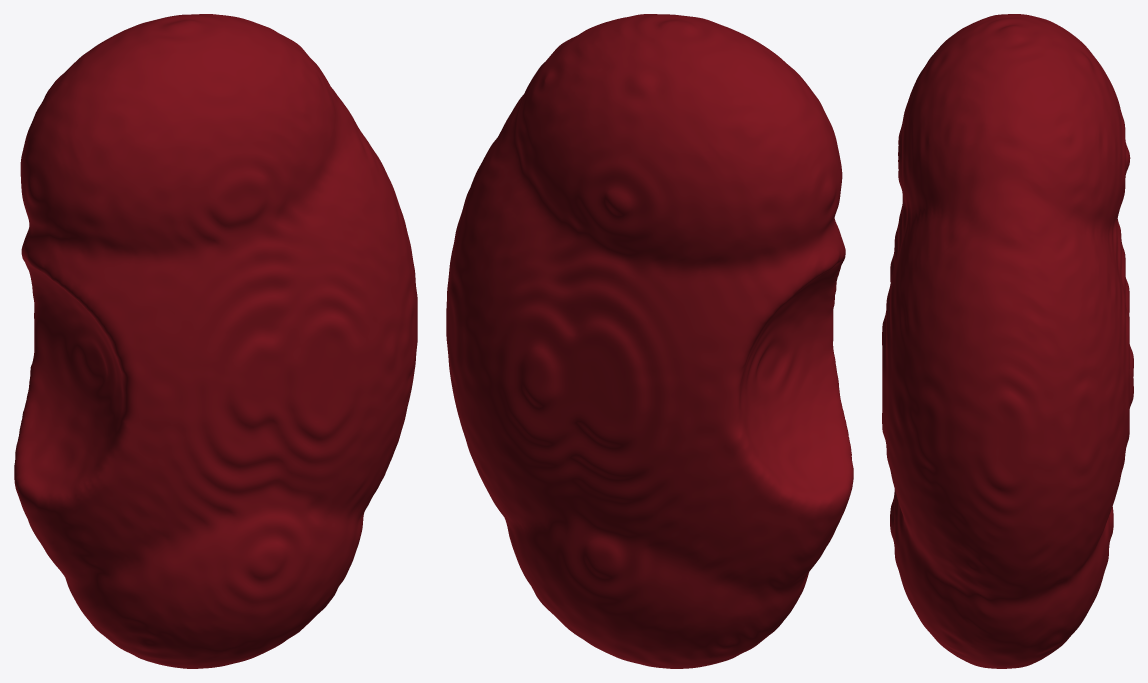
The model's file is KidneyExterior.obj.
The picture shows the model from 3 angles, left to right: view 1: azimuth 30°, elevation 25°; view 2: azimuth 150°, elevation 25°; view 3: azimuth 270°, elevation 25°; orthographic projection. The views are drawn at different scales.
Parts seen in each view (by area): view 1: KidneyExterior; view 2: KidneyExterior; view 3: KidneyExterior.
Part boxes in pixels (box(x1,y1,x2,y2)): KidneyExterior: box(14, 14, 417, 668); KidneyExterior: box(446, 14, 853, 668); KidneyExterior: box(882, 14, 1133, 668).
Size of the model in its own units: 9.3 by 15.06 by 5.61.
